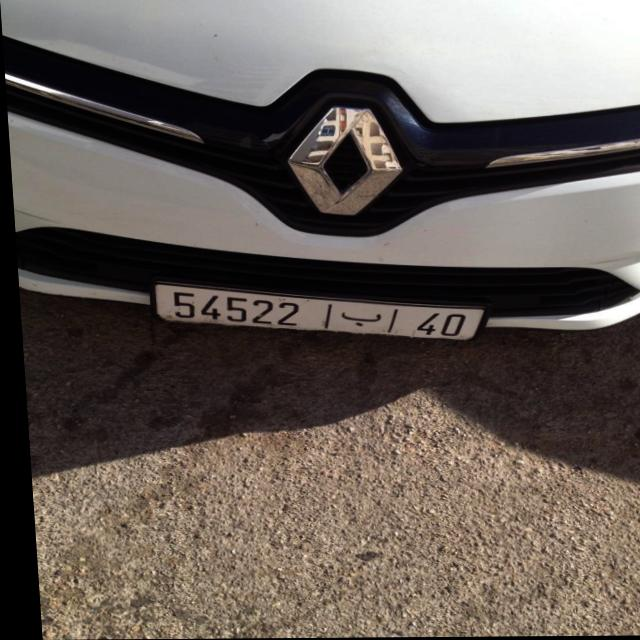License-Plate: (150, 282, 481, 340)
